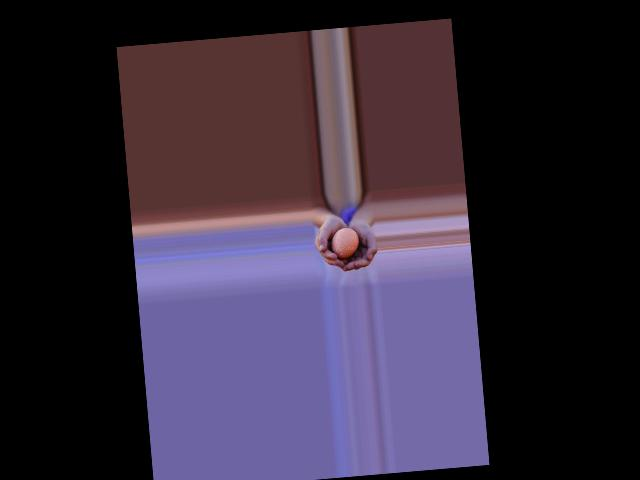egg: (330, 226, 361, 259)
